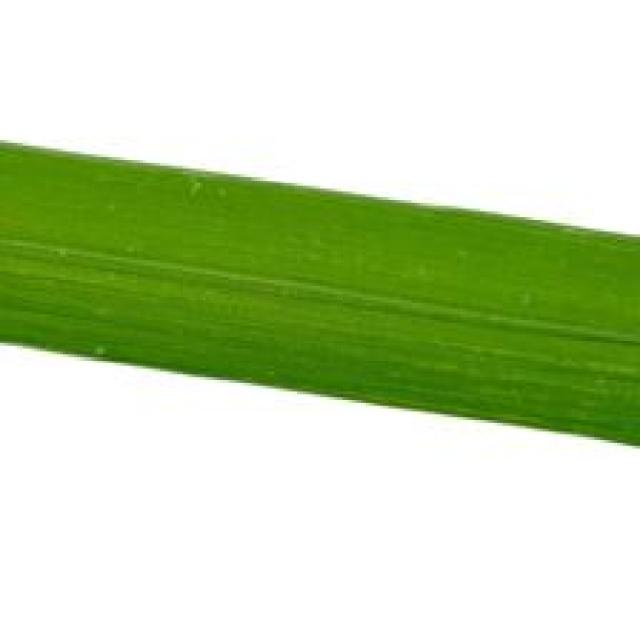Rice___Healthy_Rice_Plant: (1, 141, 637, 448)
